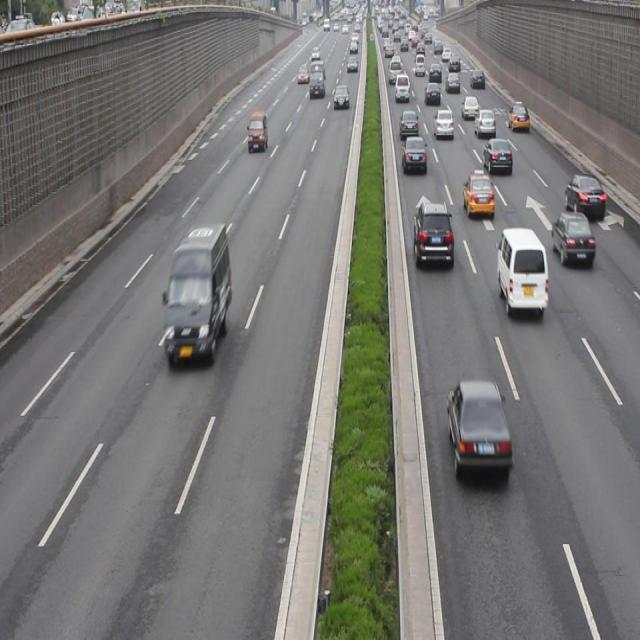car: (446, 376, 512, 483), (412, 201, 453, 271), (549, 213, 593, 268), (563, 174, 602, 220), (462, 170, 494, 220), (401, 133, 426, 175), (482, 138, 511, 174), (432, 109, 453, 140), (474, 108, 495, 137), (507, 101, 527, 131), (398, 111, 417, 138)
truck: (162, 227, 229, 368), (496, 227, 547, 319), (247, 110, 267, 152)
